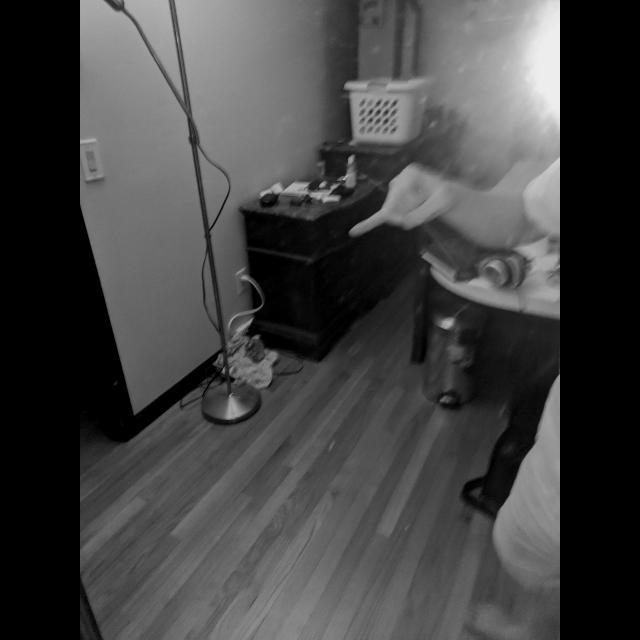J: (344, 157, 458, 245)
